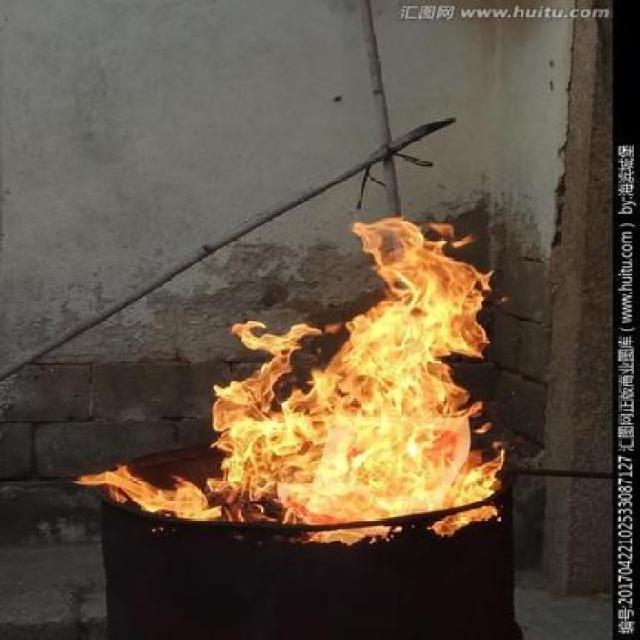Fire: (80, 206, 510, 542)
